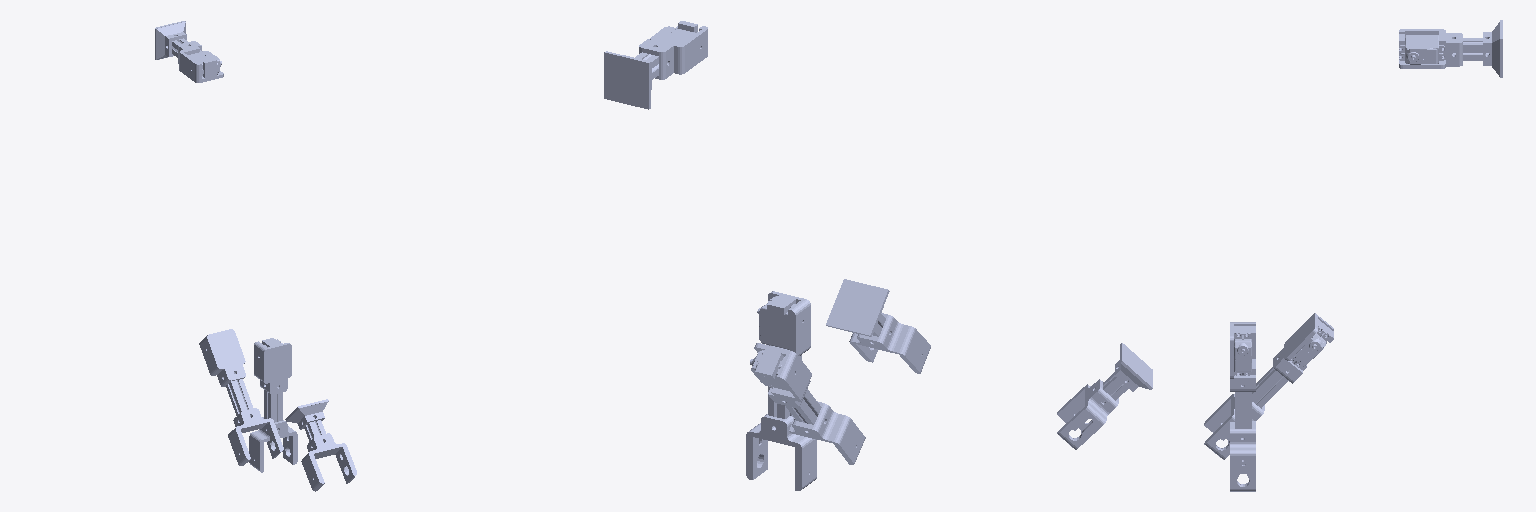
URDF robot description (First_Iteration_Assem):
<?xml version="1.0" encoding="utf-8"?>
<!-- This URDF was automatically created by SolidWorks to URDF Exporter! Originally created by [author] ([email redacted])
     Commit Version: 1.5.1-0-g916b5db  Build Version: 1.5.7152.31018
     For more information, please see http://wiki.ros.org/sw_urdf_exporter -->
<robot
  name="First_Iteration_Assem">
  <link
    name="base_link">
    <inertial>
      <origin
        xyz="-5.2701E-06 -0.54245 0.23533"
        rpy="0 0 0" />
      <mass
        value="0.026366" />
      <inertia
        ixx="5.7974E-06"
        ixy="3.507E-21"
        ixz="-3.6116E-21"
        iyy="5.7974E-06"
        iyz="7.165E-23"
        izz="9.5048E-06" />
    </inertial>
    <visual>
      <origin
        xyz="0 0 0"
        rpy="0 0 0" />
      <geometry>
        <mesh
          filename="package://First_Iteration_Assem/meshes/base_link.STL" />
      </geometry>
      <material
        name="">
        <color
          rgba="0.79216 0.81961 0.93333 1" />
      </material>
    </visual>
    <collision>
      <origin
        xyz="0 0 0"
        rpy="0 0 0" />
      <geometry>
        <mesh
          filename="package://First_Iteration_Assem/meshes/base_link.STL" />
      </geometry>
    </collision>
  </link>
  <link
    name="link_1">
    <inertial>
      <origin
        xyz="0.00083931 0.0025968 -4.8428E-13"
        rpy="0 0 0" />
      <mass
        value="0.047568" />
      <inertia
        ixx="1.9511E-05"
        ixy="8.2421E-07"
        ixz="1.3428E-17"
        iyy="1.819E-05"
        iyz="-1.0059E-18"
        izz="3.0658E-05" />
    </inertial>
    <visual>
      <origin
        xyz="0 0 0"
        rpy="0 0 0" />
      <geometry>
        <mesh
          filename="package://First_Iteration_Assem/meshes/link_1.STL" />
      </geometry>
      <material
        name="">
        <color
          rgba="0.79216 0.81961 0.93333 1" />
      </material>
    </visual>
    <collision>
      <origin
        xyz="0 0 0"
        rpy="0 0 0" />
      <geometry>
        <mesh
          filename="package://First_Iteration_Assem/meshes/link_1.STL" />
      </geometry>
    </collision>
  </link>
  <joint
    name="joint01"
    type="fixed">
    <origin
      xyz="0 -0.30375 -0.54245"
      rpy="-3.1416 0 3.1416" />
    <parent
      link="base_link" />
    <child
      link="link_1" />
    <axis
      xyz="0 0 0" />
  </joint>
  <link
    name="link_2">
    <inertial>
      <origin
        xyz="-0.014183 -0.05285 0.008657"
        rpy="0 0 0" />
      <mass
        value="0.088186" />
      <inertia
        ixx="5.0008E-05"
        ixy="-5.2062E-07"
        ixz="-8.3043E-07"
        iyy="2.7195E-05"
        iyz="1.2159E-06"
        izz="6.2887E-05" />
    </inertial>
    <visual>
      <origin
        xyz="0 0 0"
        rpy="0 0 0" />
      <geometry>
        <mesh
          filename="package://First_Iteration_Assem/meshes/link_2.STL" />
      </geometry>
      <material
        name="">
        <color
          rgba="0.79216 0.81961 0.93333 1" />
      </material>
    </visual>
    <collision>
      <origin
        xyz="0 0 0"
        rpy="0 0 0" />
      <geometry>
        <mesh
          filename="package://First_Iteration_Assem/meshes/link_2.STL" />
      </geometry>
    </collision>
  </link>
  <joint
    name="joint12"
    type="revolute">
    <origin
      xyz="0.016405 -0.045802 -0.027458"
      rpy="0.72745 0 0" />
    <parent
      link="link_1" />
    <child
      link="link_2" />
    <axis
      xyz="0 0 1" />
    <limit
      lower="0"
      upper="0"
      effort="0"
      velocity="0" />
  </joint>
  <link
    name="link_3">
    <inertial>
      <origin
        xyz="-0.014183 -0.05285 0.008657"
        rpy="0 0 0" />
      <mass
        value="0.088186" />
      <inertia
        ixx="5.0008E-05"
        ixy="-5.2062E-07"
        ixz="-8.3043E-07"
        iyy="2.7195E-05"
        iyz="1.2159E-06"
        izz="6.2887E-05" />
    </inertial>
    <visual>
      <origin
        xyz="0 0 0"
        rpy="0 0 0" />
      <geometry>
        <mesh
          filename="package://First_Iteration_Assem/meshes/link_3.STL" />
      </geometry>
      <material
        name="">
        <color
          rgba="0.79216 0.81961 0.93333 1" />
      </material>
    </visual>
    <collision>
      <origin
        xyz="0 0 0"
        rpy="0 0 0" />
      <geometry>
        <mesh
          filename="package://First_Iteration_Assem/meshes/link_3.STL" />
      </geometry>
    </collision>
  </link>
  <joint
    name="joint23"
    type="revolute">
    <origin
      xyz="5E-05 -0.12426 -0.019717"
      rpy="1.6213 0 0" />
    <parent
      link="link_2" />
    <child
      link="link_3" />
    <axis
      xyz="0 0 1" />
    <limit
      lower="0"
      upper="0"
      effort="0"
      velocity="0" />
  </joint>
  <link
    name="link_4">
    <inertial>
      <origin
        xyz="-0.014122 -0.029264 0.008661"
        rpy="0 0 0" />
      <mass
        value="0.074892" />
      <inertia
        ixx="3.3811E-05"
        ixy="-1.3448E-06"
        ixz="-8.3043E-07"
        iyy="1.9153E-05"
        iyz="1.2159E-06"
        izz="3.5543E-05" />
    </inertial>
    <visual>
      <origin
        xyz="0 0 0"
        rpy="0 0 0" />
      <geometry>
        <mesh
          filename="package://First_Iteration_Assem/meshes/link_4.STL" />
      </geometry>
      <material
        name="">
        <color
          rgba="0.79216 0.81961 0.93333 1" />
      </material>
    </visual>
    <collision>
      <origin
        xyz="0 0 0"
        rpy="0 0 0" />
      <geometry>
        <mesh
          filename="package://First_Iteration_Assem/meshes/link_4.STL" />
      </geometry>
    </collision>
  </link>
  <joint
    name="joint34"
    type="revolute">
    <origin
      xyz="5E-05 -0.14974 -0.018632"
      rpy="0.79283 0 0" />
    <parent
      link="link_3" />
    <child
      link="link_4" />
    <axis
      xyz="0 0 1" />
    <limit
      lower="0"
      upper="0"
      effort="0"
      velocity="0" />
  </joint>
</robot>

--- What the picture shows (computed from the rendered views, not written in the file) ---
3 views of the same robot in one strip: view 1: azimuth 30°, elevation 25°; view 2: azimuth 150°, elevation 25°; view 3: azimuth 270°, elevation 25° (orthographic).
Model First_Iteration_Assem with 5 links and 4 joints (3 revolute, 1 fixed), rooted at base_link, posed all joints at 0.
Visible links, largest first — view 1: link_2, link_1, link_3, base_link; view 2: link_1, link_2, base_link, link_3; view 3: link_2, link_1, link_3, base_link.
Boxes of the visible links, box(x1,y1,x2,y2) form: link_2: box(199, 329, 283, 465); link_1: box(249, 338, 297, 472); link_3: box(285, 399, 356, 491); base_link: box(155, 21, 223, 82); link_1: box(746, 291, 816, 490); link_2: box(750, 343, 865, 464); base_link: box(604, 21, 707, 109); link_3: box(826, 279, 930, 373); link_2: box(1204, 313, 1333, 459); link_1: box(1230, 322, 1255, 491); link_3: box(1057, 343, 1152, 449); base_link: box(1399, 20, 1502, 77).
Bounding box of the posed robot: 0.1029 × 0.5215 × 0.5829 m (x, y, z).
Meshes: 5 distinct files referenced, 4 mesh visuals loaded (4 binary STL); not drawn: 1 (reference not matched to a file when rendering).